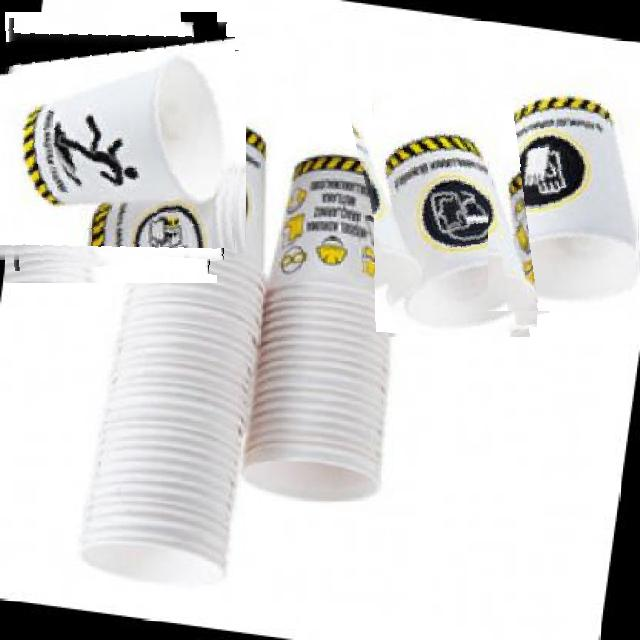non-biodegradable: (0, 22, 235, 271), (361, 85, 537, 337), (488, 63, 640, 311)
